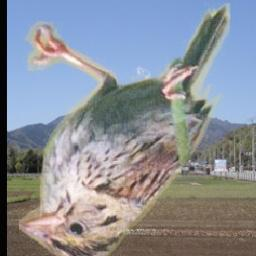Sparrow: (20, 4, 231, 256)
